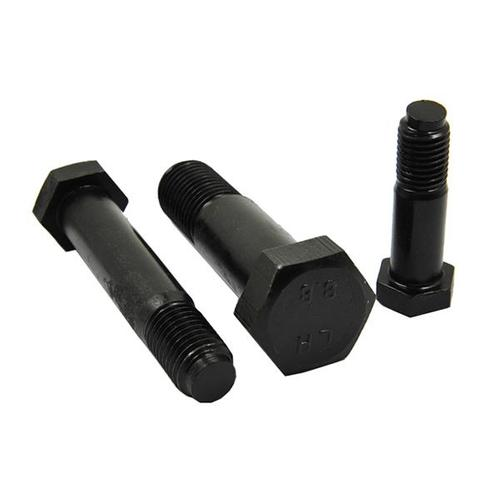Tornillo: (30, 158, 238, 406), (155, 158, 380, 378), (374, 98, 458, 317)
